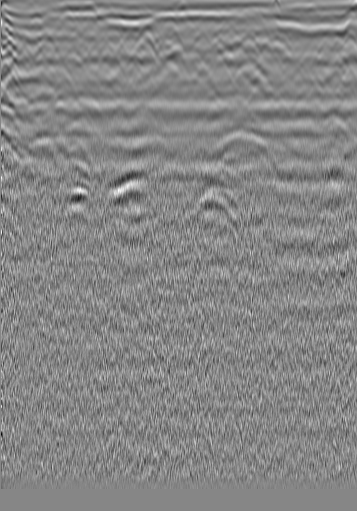가스: (102, 163, 157, 212)
상수: (317, 33, 337, 53)
우수: (195, 26, 215, 46)
